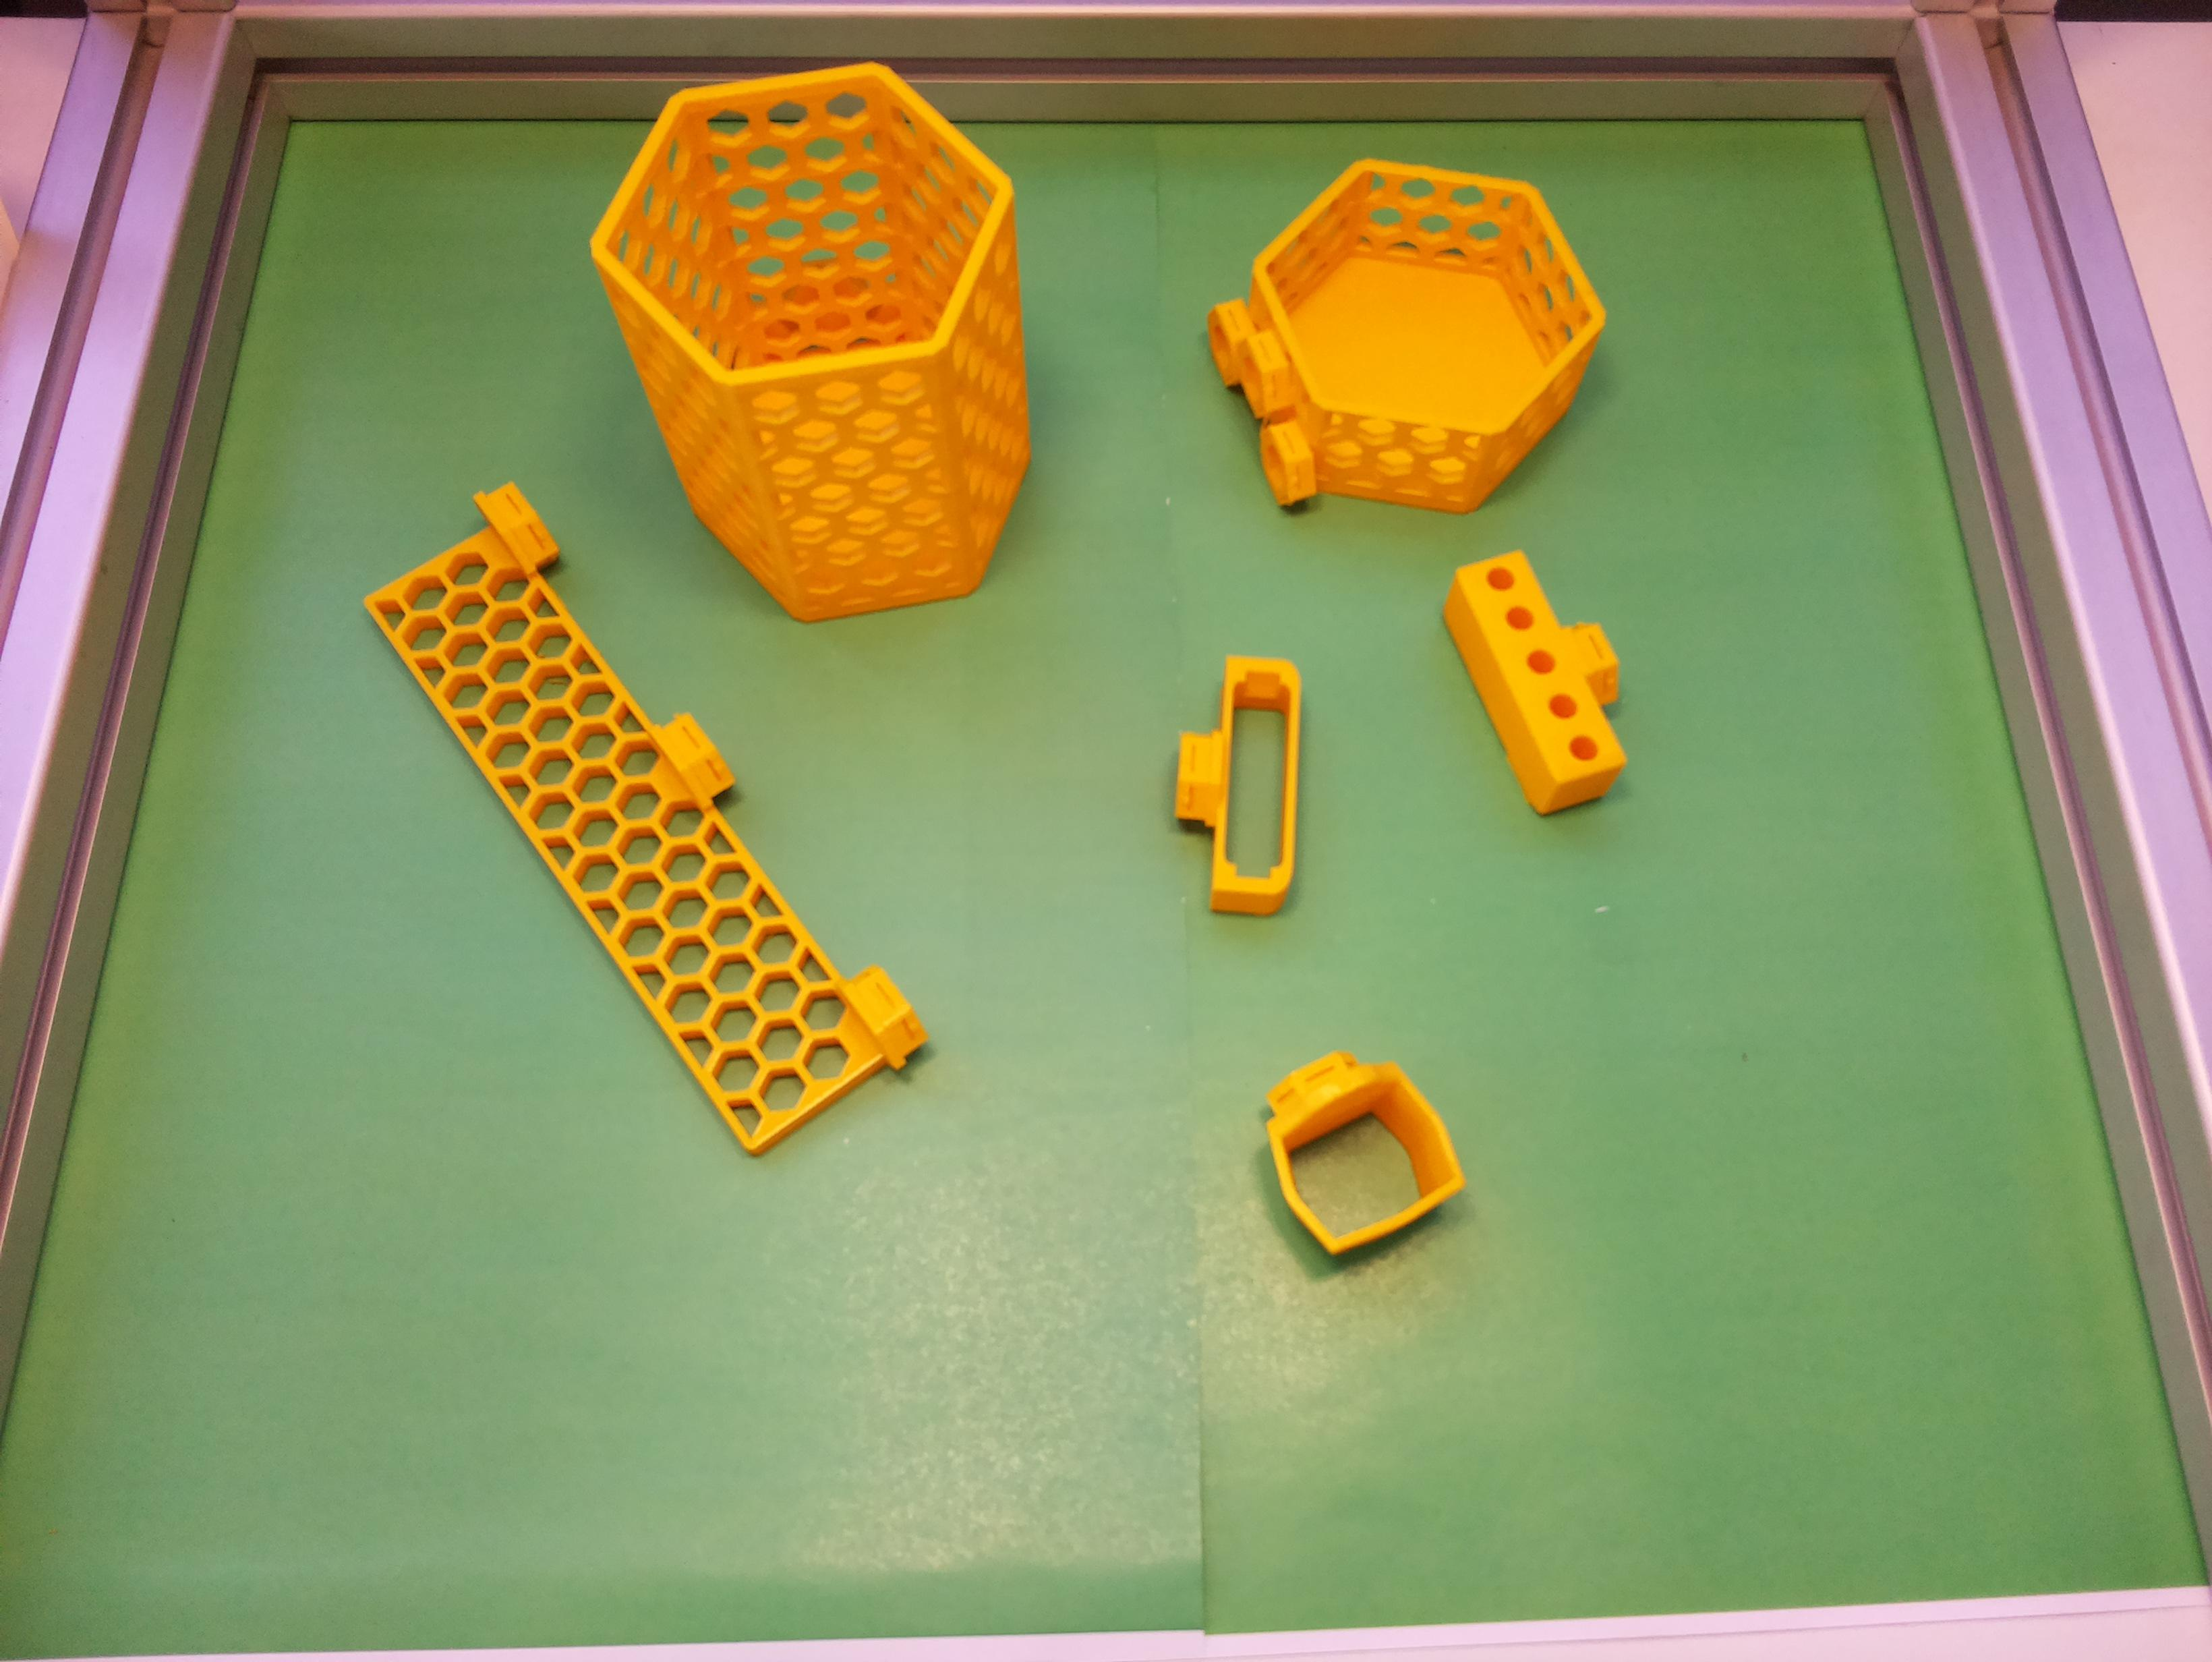bit_holder: (1423, 524, 1667, 826)
bottle_holder: (1144, 82, 1662, 604)
cup_holder: (567, 38, 1077, 646)
cutter_holder: (1171, 655, 1304, 917)
scissor_holder: (1238, 1025, 1475, 1267)
tool_holder: (333, 473, 938, 1173)
